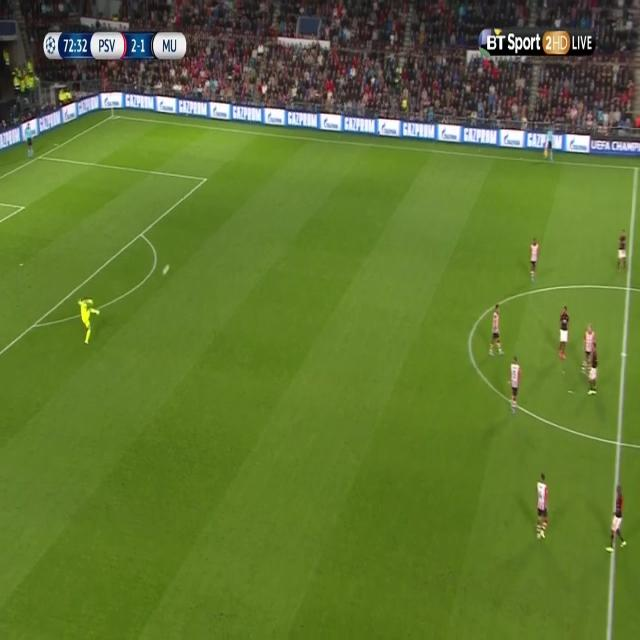Ball: (161, 262, 170, 280)
Goalkeeper: (78, 296, 100, 347)
Player: (602, 482, 630, 556), (485, 303, 506, 361), (534, 471, 551, 542), (507, 354, 522, 414), (581, 323, 597, 375), (557, 305, 571, 363), (614, 228, 630, 275), (588, 341, 598, 402), (528, 235, 539, 280)
Referee: (23, 123, 36, 162), (544, 127, 557, 164)
